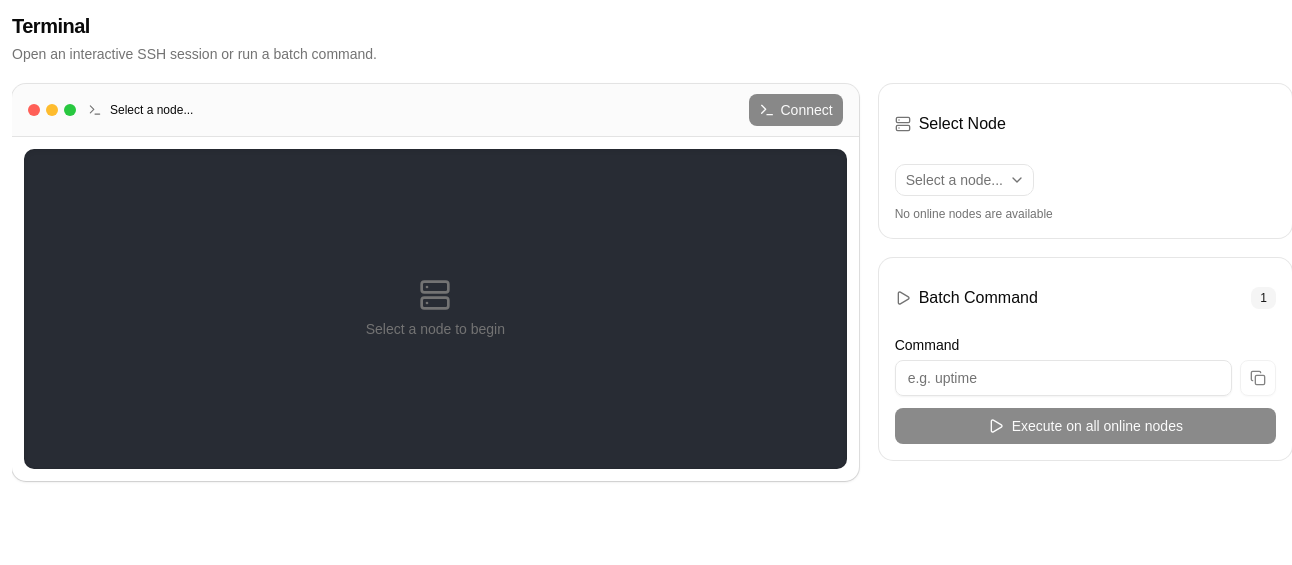
it: admin terminal › renders batch request errors
Type "uptime" into the field with placeholder "e.g. uptime" at (1063, 378), box x1=895 y1=360 x2=1232 y2=396
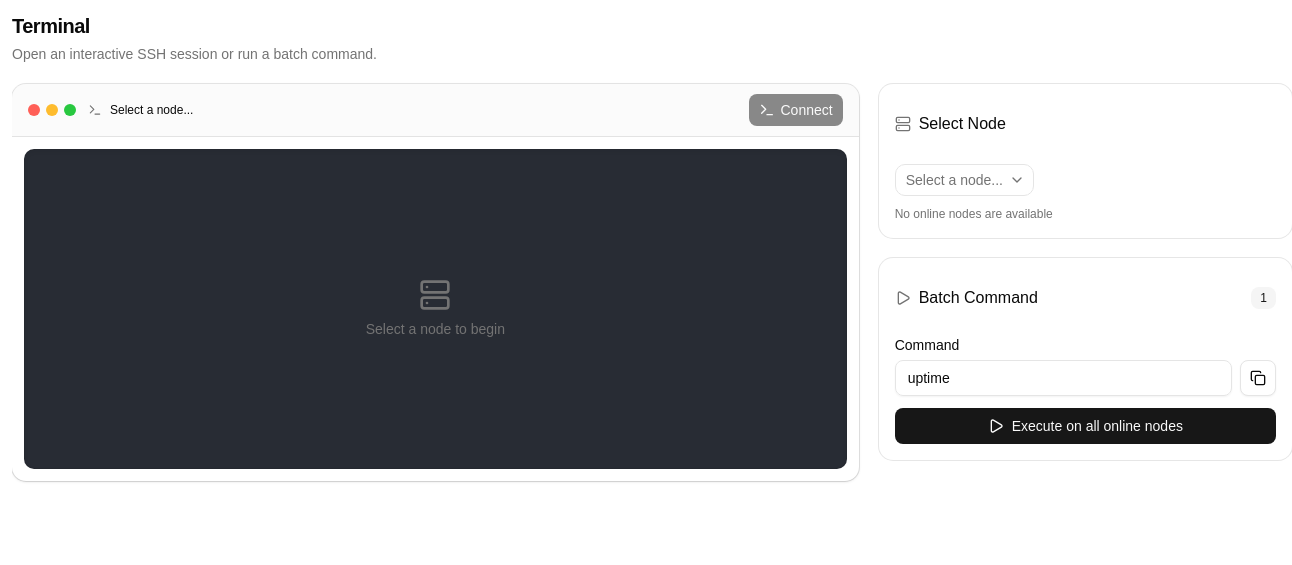
Click the button "Execute on all online nodes" at (1085, 426), box x1=895 y1=408 x2=1276 y2=444
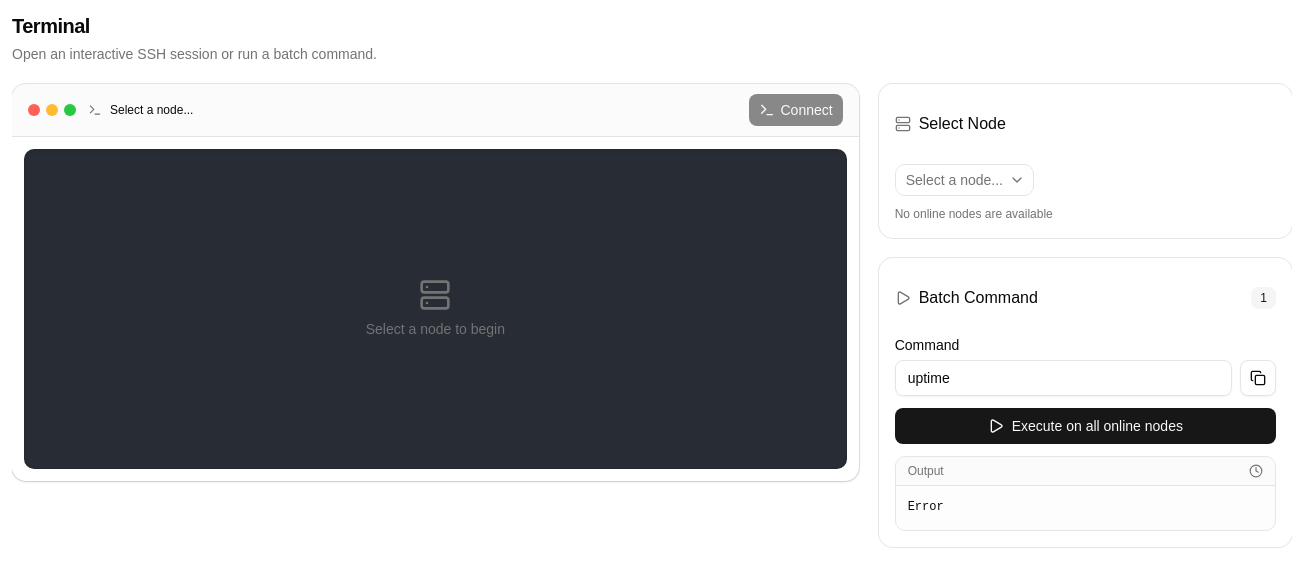
Now the text "Error" is shown, box x1=896 y1=486 x2=1275 y2=530
